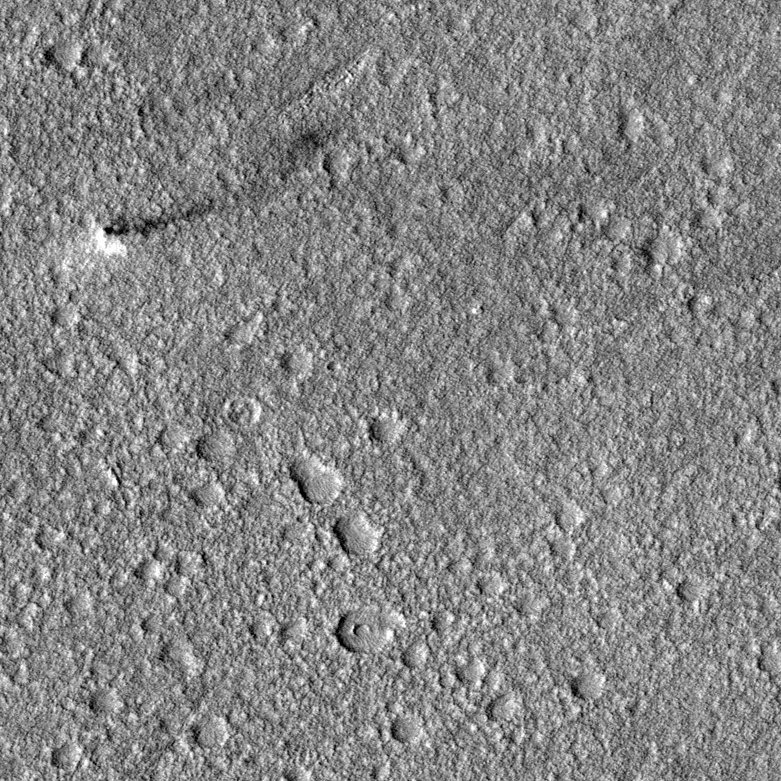dust_devil: (88, 198, 211, 261)
